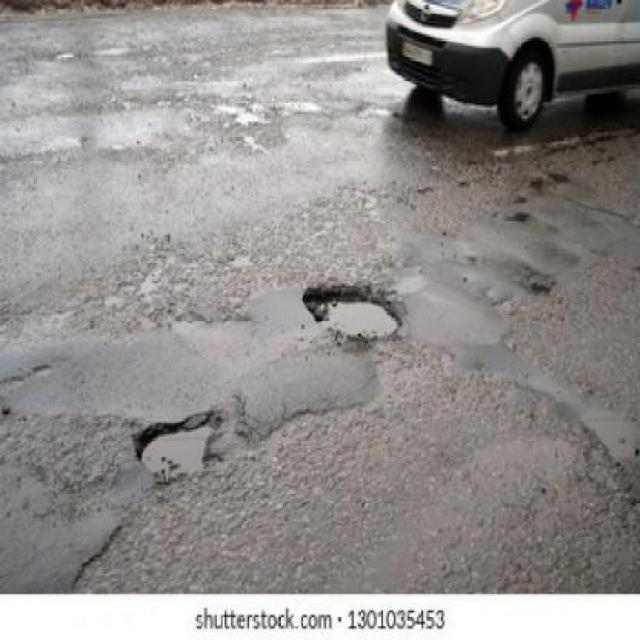Buraco: (126, 405, 231, 492), (298, 276, 411, 346)
